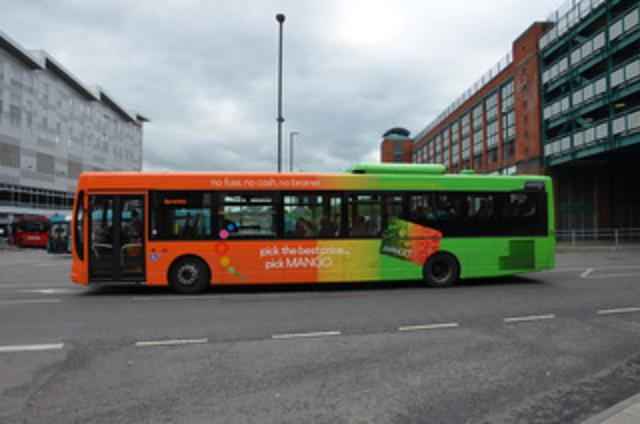bus: (68, 172, 552, 288)
